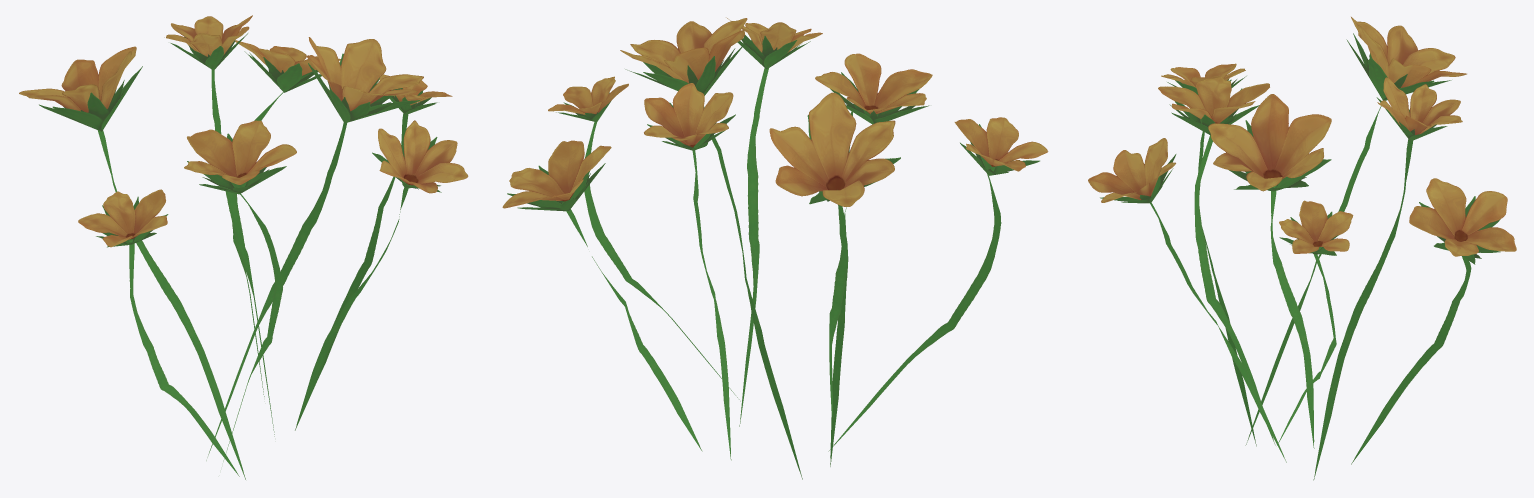
Rendered from MSH_fwOF_Flowers_03_A.fbx.
The picture shows the model from 3 angles, left to right: view 1: azimuth 30°, elevation 25°; view 2: azimuth 150°, elevation 25°; view 3: azimuth 270°, elevation 25°; orthographic projection. The views are drawn at different scales.
Visible parts, largest first — view 1: MSH_fwOF_Flowers_03_A; view 2: MSH_fwOF_Flowers_03_A; view 3: MSH_fwOF_Flowers_03_A.
Boxes of the visible parts, x1,y1,x2,y2 form: MSH_fwOF_Flowers_03_A: [19, 15, 468, 479]; MSH_fwOF_Flowers_03_A: [502, 17, 1048, 479]; MSH_fwOF_Flowers_03_A: [1088, 17, 1516, 480].
Bounding box in the file's own units: 0.3765 × 0.365 × 0.3565.
